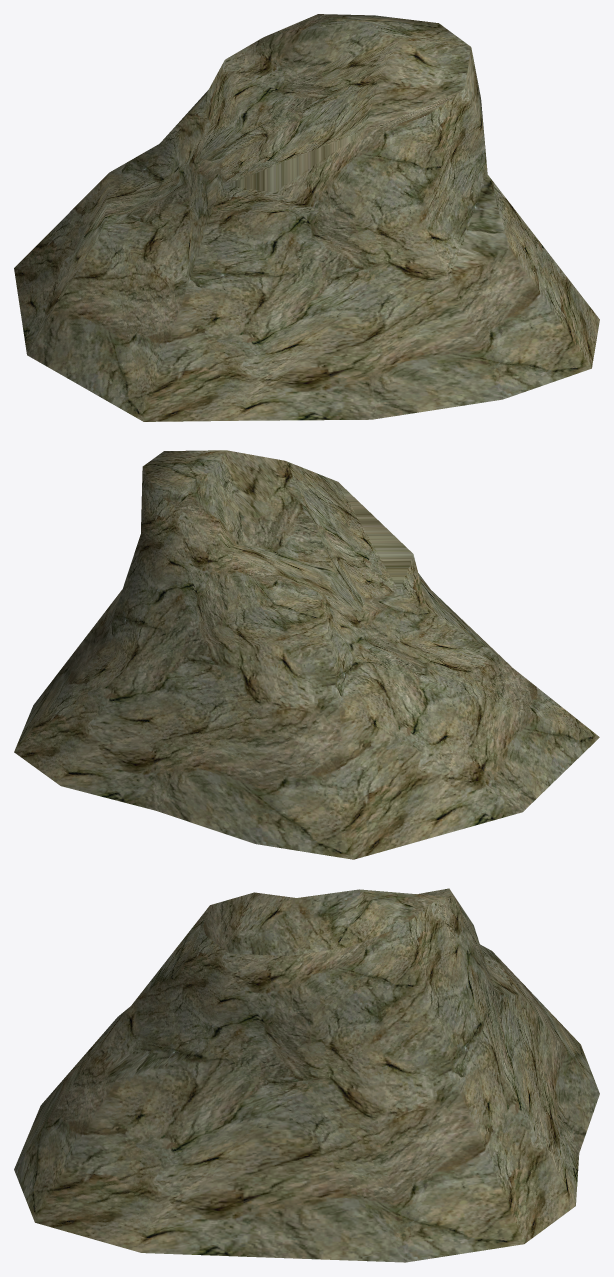
Rendered from rock_plain_white_a1_l1.fbx.
3 views of the same model, one above another, from view 1: azimuth 30°, elevation 25°; view 2: azimuth 150°, elevation 25°; view 3: azimuth 270°, elevation 25° (orthographic). The views are drawn at different scales.
Visible parts, largest first — view 1: mesh_node; view 2: mesh_node; view 3: mesh_node.
Boxes of the visible parts, bbox=[...] form: mesh_node: bbox=[14, 14, 599, 421]; mesh_node: bbox=[14, 450, 599, 859]; mesh_node: bbox=[14, 888, 599, 1262].
Size of the model in its own units: 5.1 by 2.62 by 4.84.
